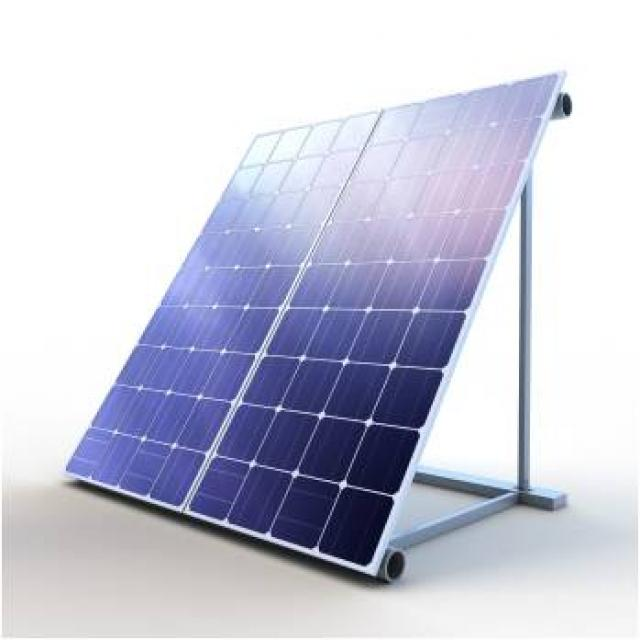no faulty: (70, 79, 563, 565)
